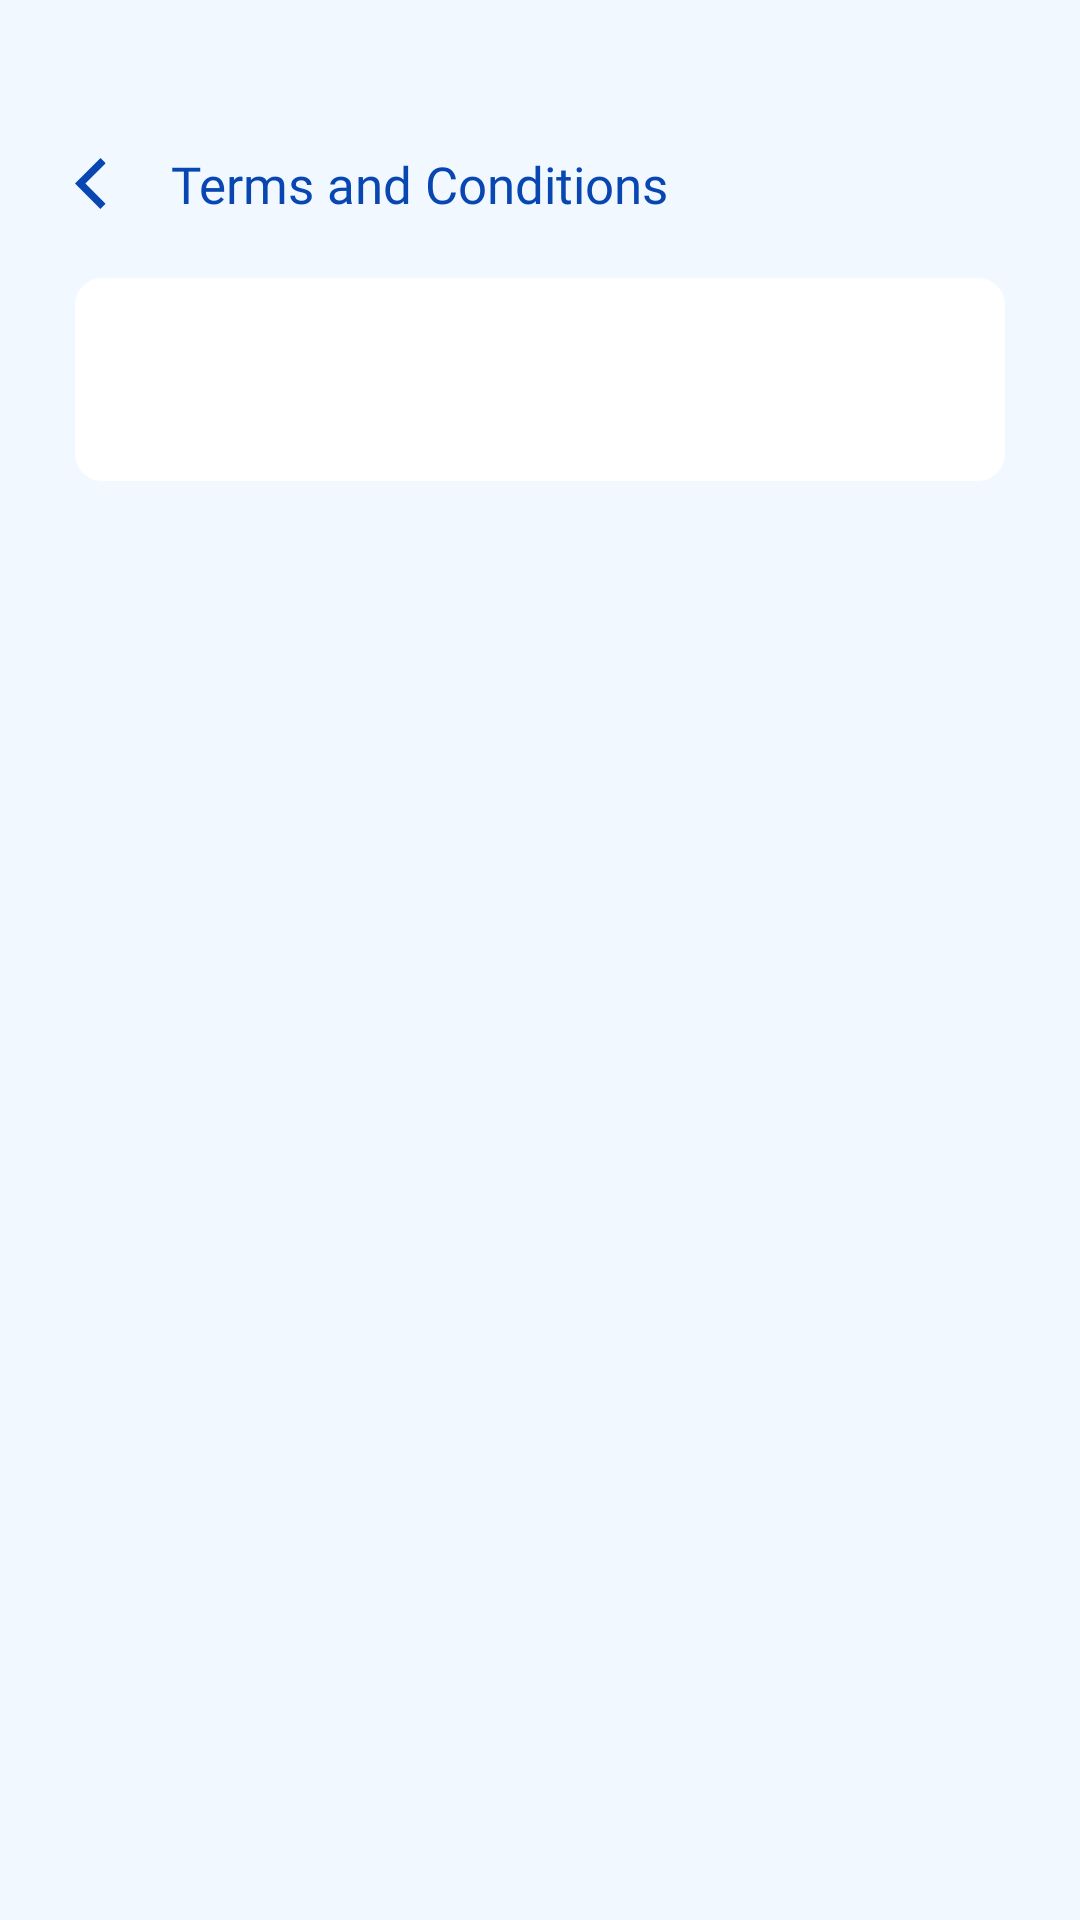

Icon click points for this 1080×1920 phone screenshot, format (x=x, y=y):
return: (x=90, y=183)
